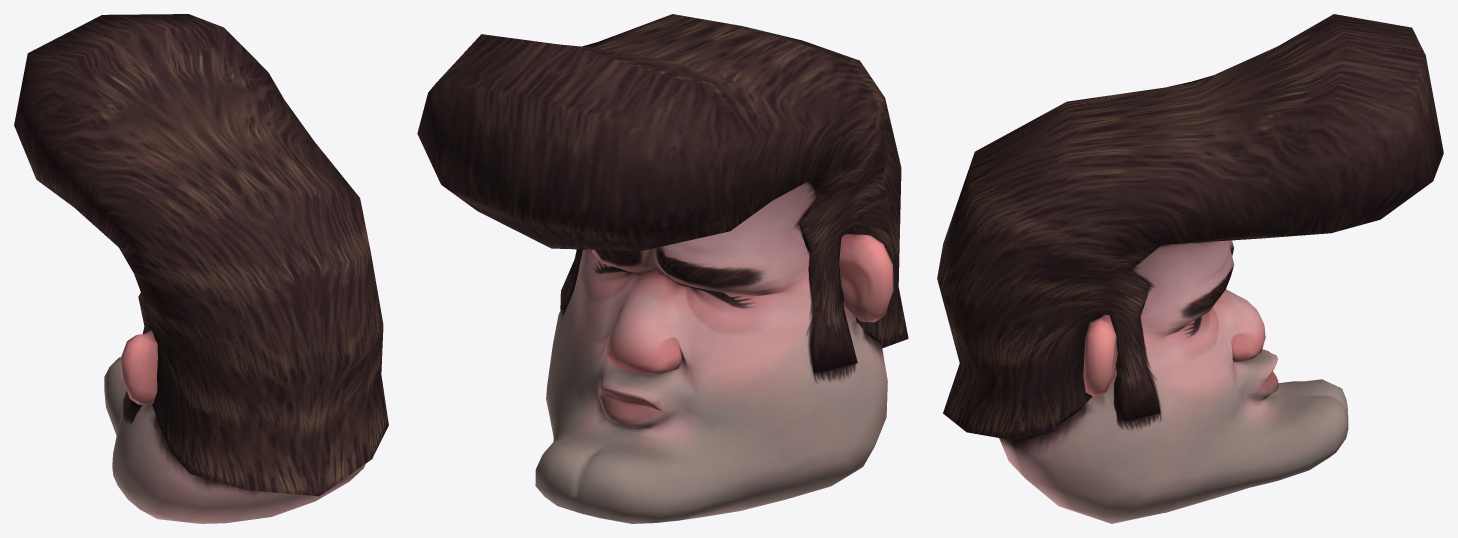
Rendered from avatar1-head.glb.
3 views of the same model, side by side, from view 1: azimuth 30°, elevation 25°; view 2: azimuth 150°, elevation 25°; view 3: azimuth 270°, elevation 25° (orthographic). The views are drawn at different scales.
Visible parts, largest first — view 1: head; view 2: head; view 3: head.
Boxes of the visible parts, box(x1,y1,x2,y2) form: head: box(14, 14, 388, 523); head: box(417, 14, 908, 523); head: box(937, 14, 1443, 523).
Bounding box in the file's own units: 0.2966 × 0.4621 × 0.4624.
Materials: 1 (1 with a texture image).
